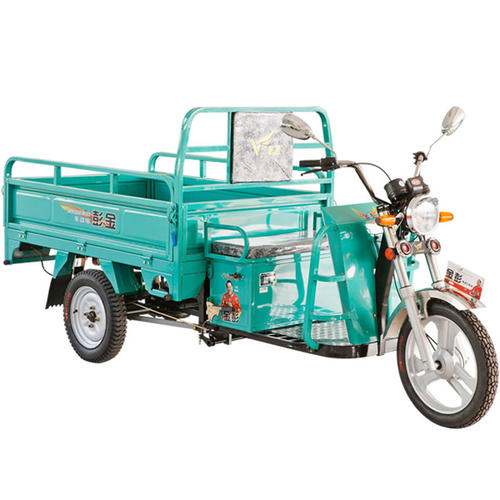tricycle: (12, 78, 500, 432)
